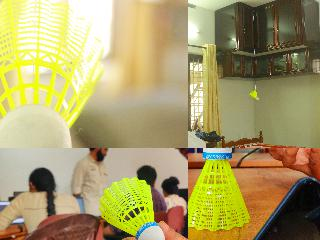shuttlecock: (0, 0, 104, 147), (188, 148, 251, 230), (99, 177, 166, 239), (248, 90, 258, 100)
